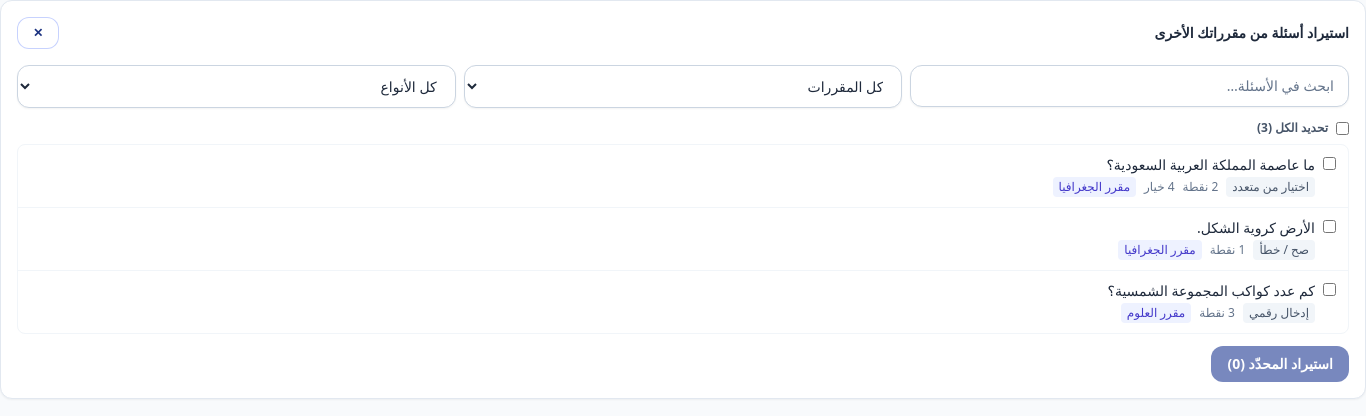
Test case: QuestionImportPicker — E5 › تحديد سؤال يُفعّل زرّ الاستيراد
Expected: the text "ما عاصمة المملكة العربية السعودية؟" is shown, x1=1106 y1=155 x2=1315 y2=174
# تحديد أول سؤال
Click the checkbox labelled "ما عاصمة المملكة": (1330, 164) x1=1323 y1=157 x2=1336 y2=170
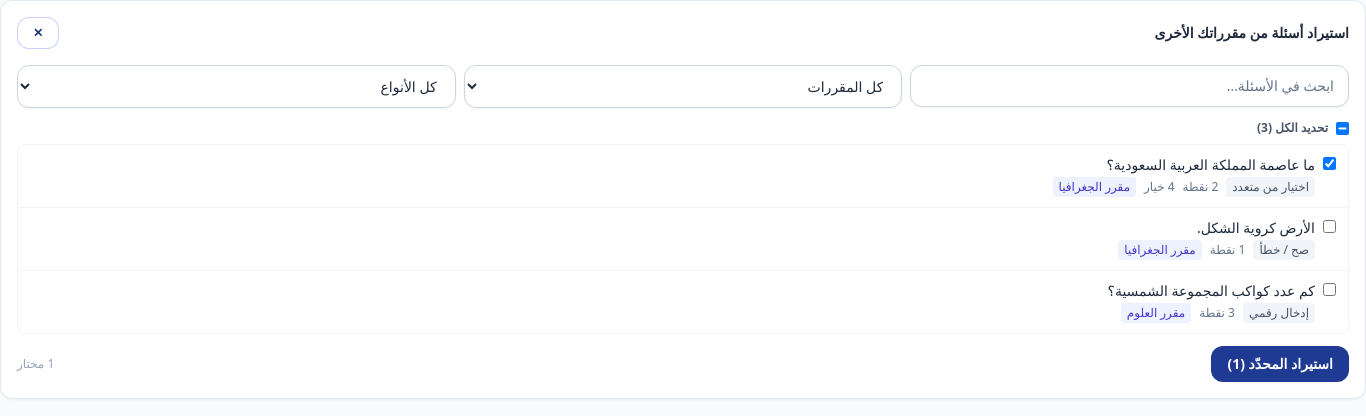
Expected: the button "استيراد المحدّد (1)" is enabled, x1=1211 y1=346 x2=1349 y2=382
